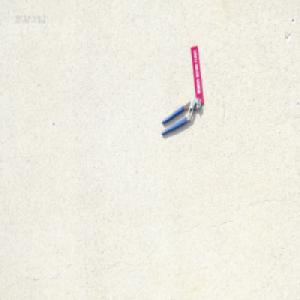Label: (190, 44, 203, 104)
Pliers: (159, 95, 201, 136)
